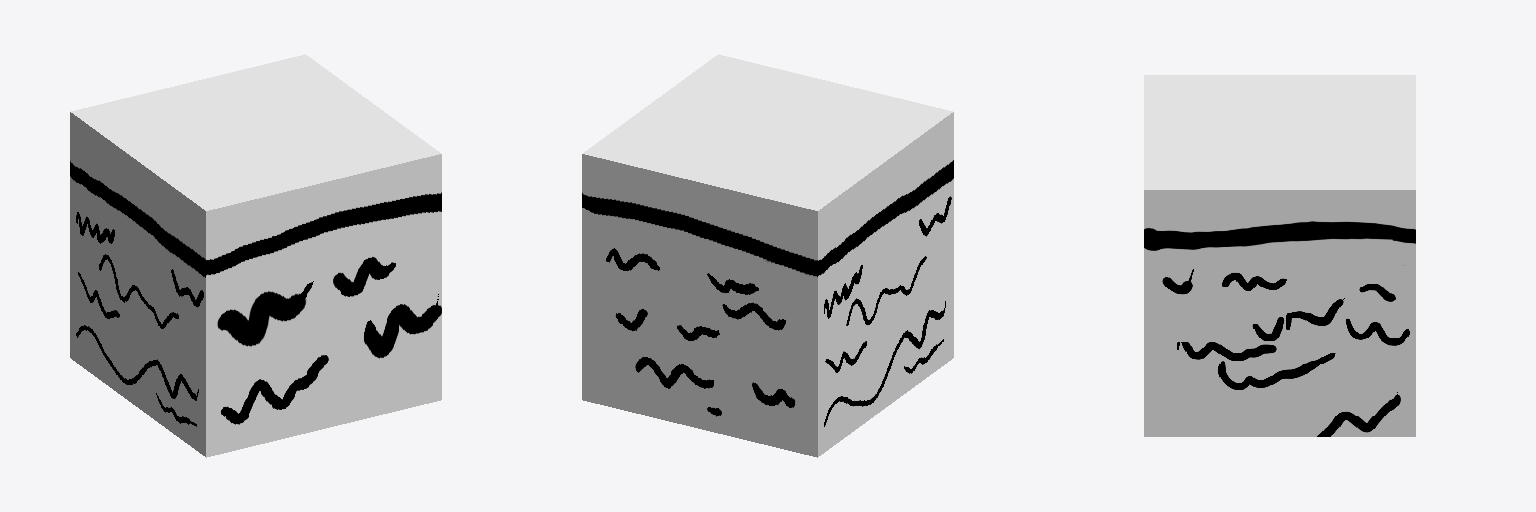
The picture shows the model from 3 angles: view 1: azimuth 30°, elevation 25°; view 2: azimuth 150°, elevation 25°; view 3: azimuth 270°, elevation 25°; orthographic projection.
Parts seen in each view (by area): view 1: Cube; view 2: Cube; view 3: Cube.
Part boxes in pixels (bbox=[...]): Cube: bbox=[70, 54, 441, 457]; Cube: bbox=[582, 54, 953, 457]; Cube: bbox=[1144, 75, 1415, 436].
Bounding box in the file's own units: 1 × 1 × 1.
1 materials, 1 textured.